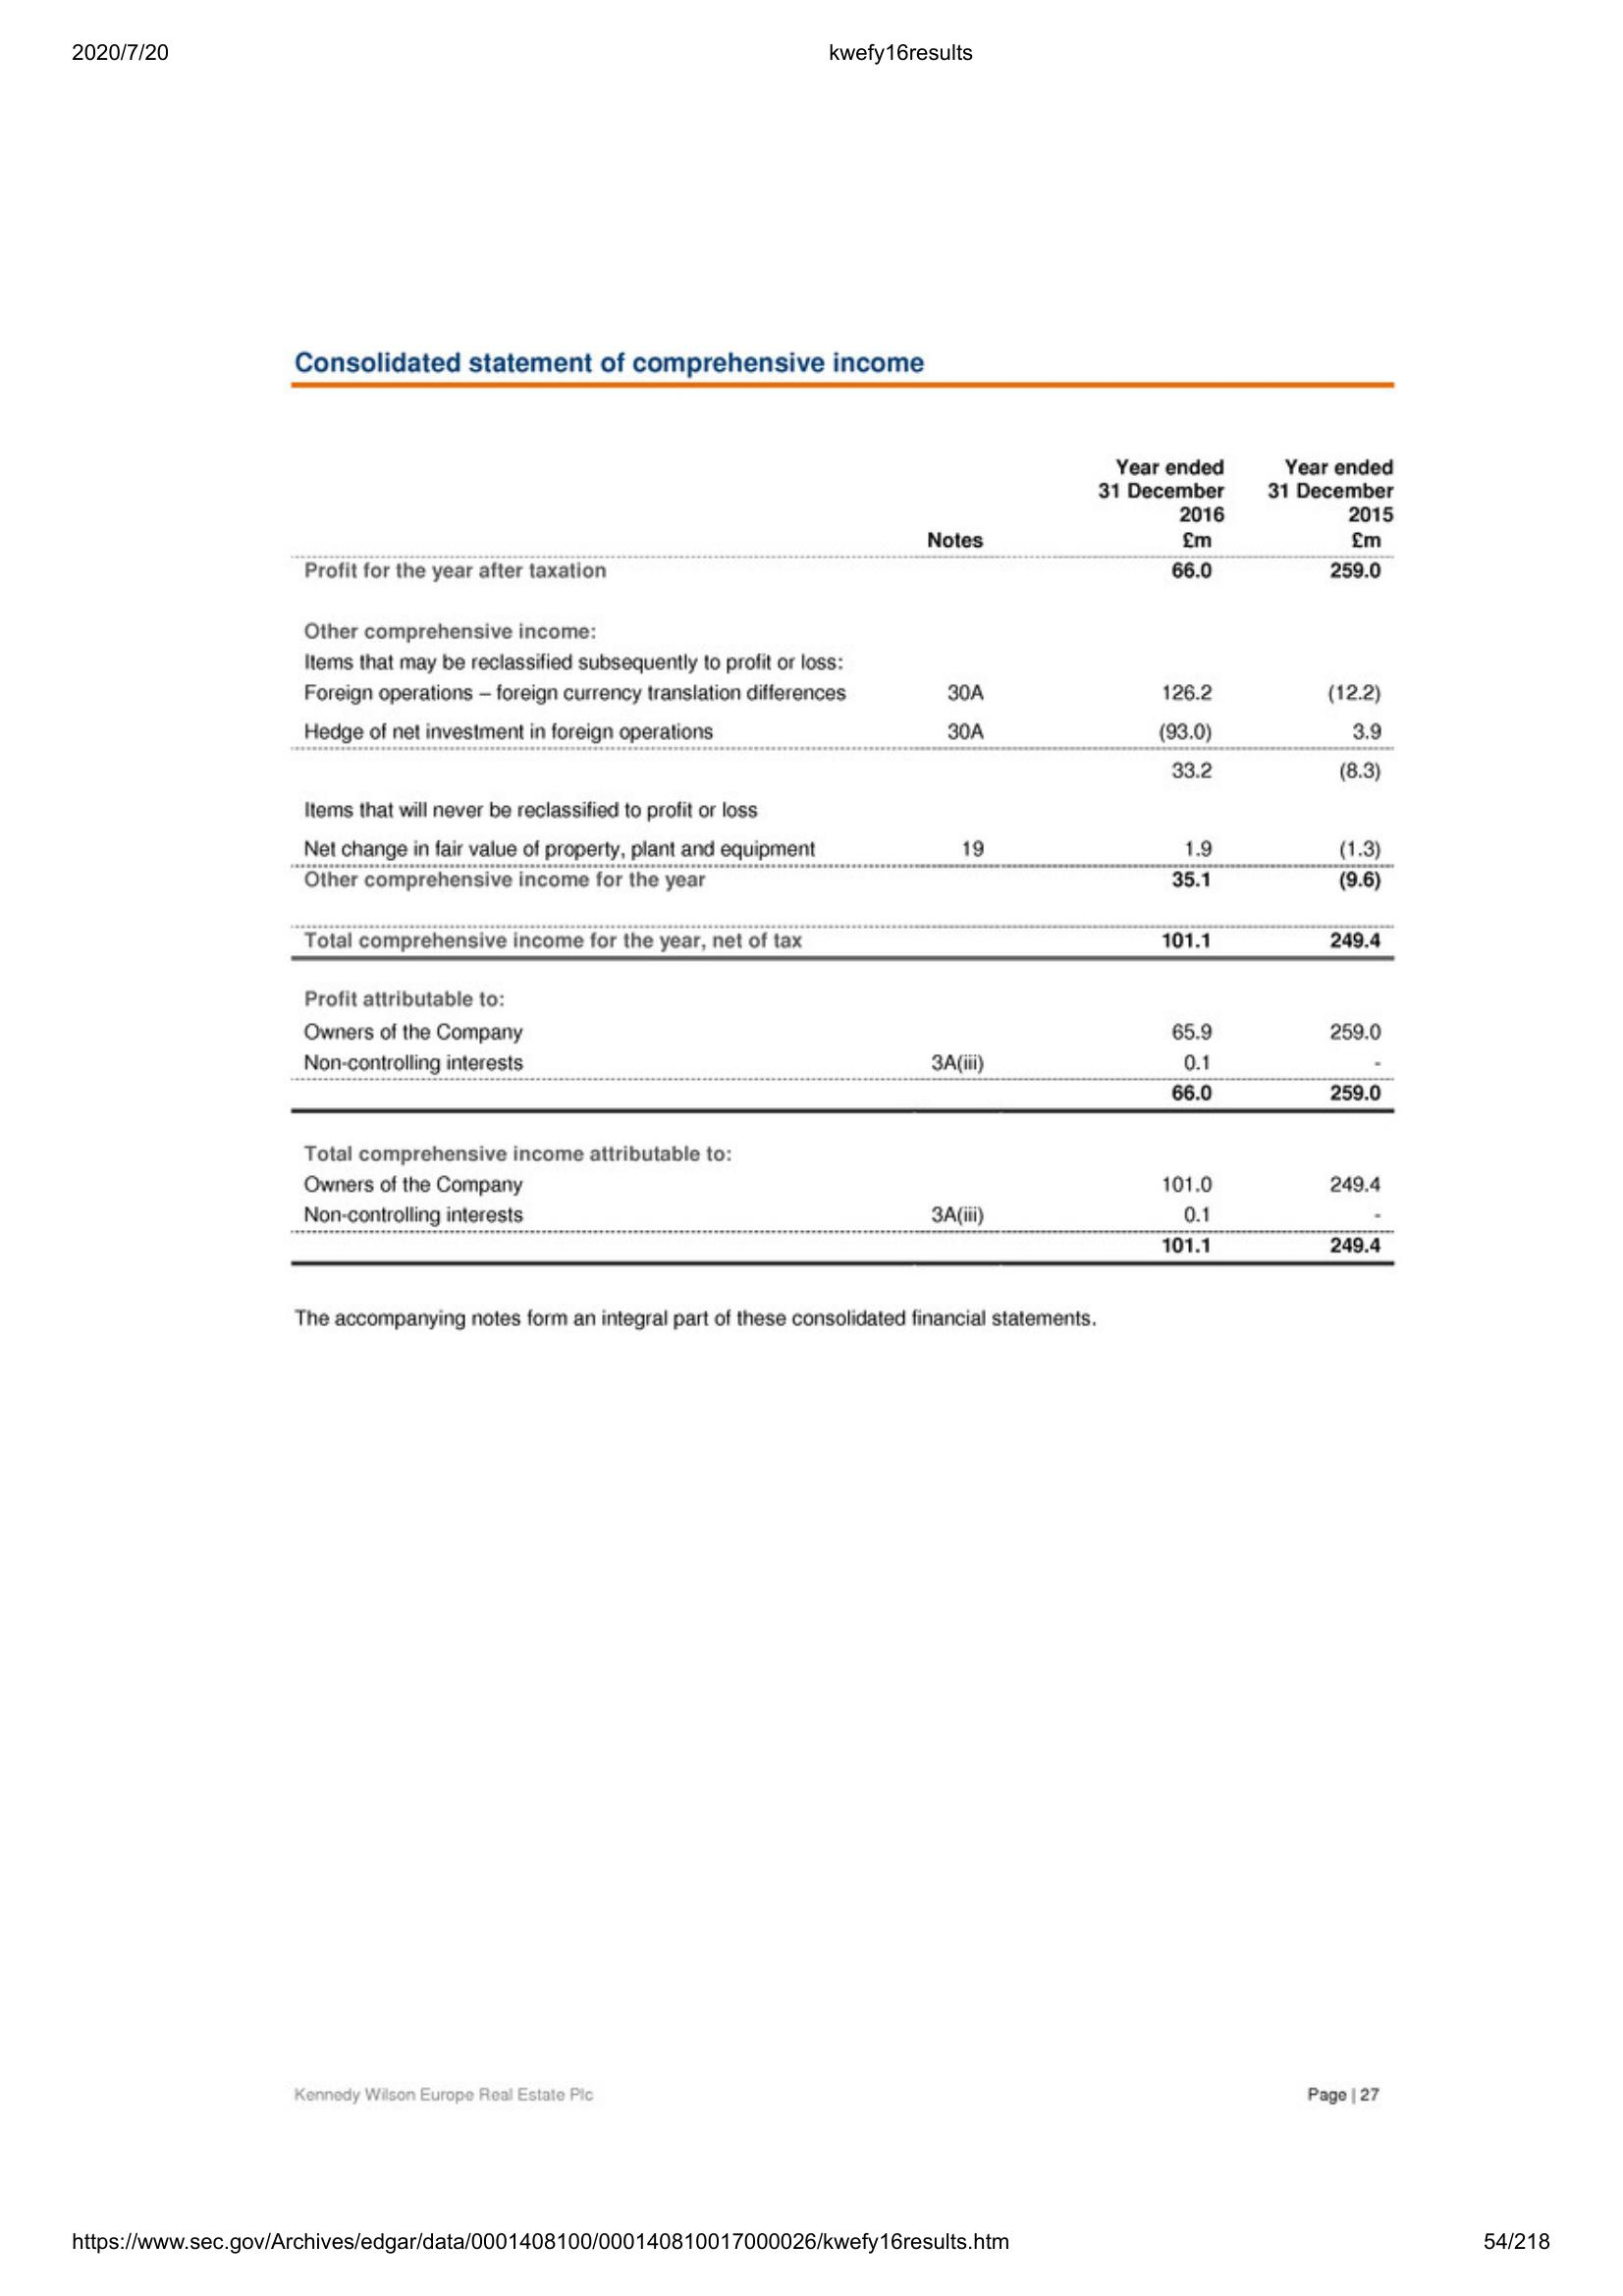table: (290, 374, 1400, 1276)
